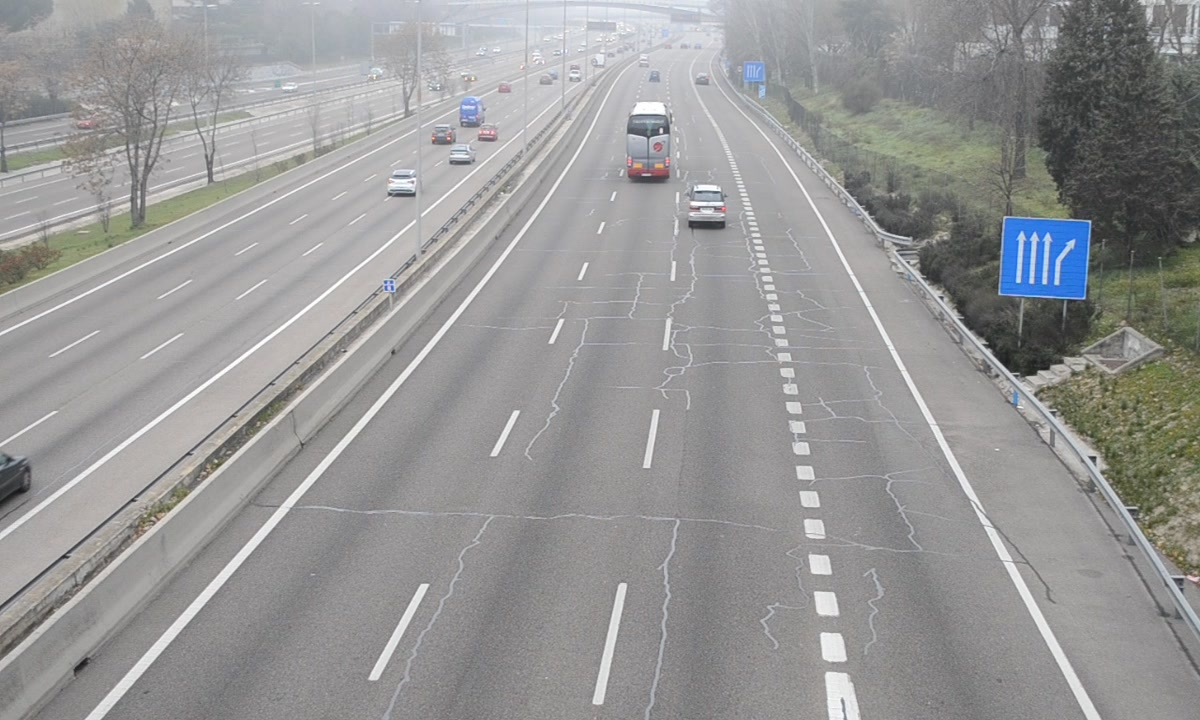bus: (626, 101, 672, 184)
car: (687, 185, 728, 227)
